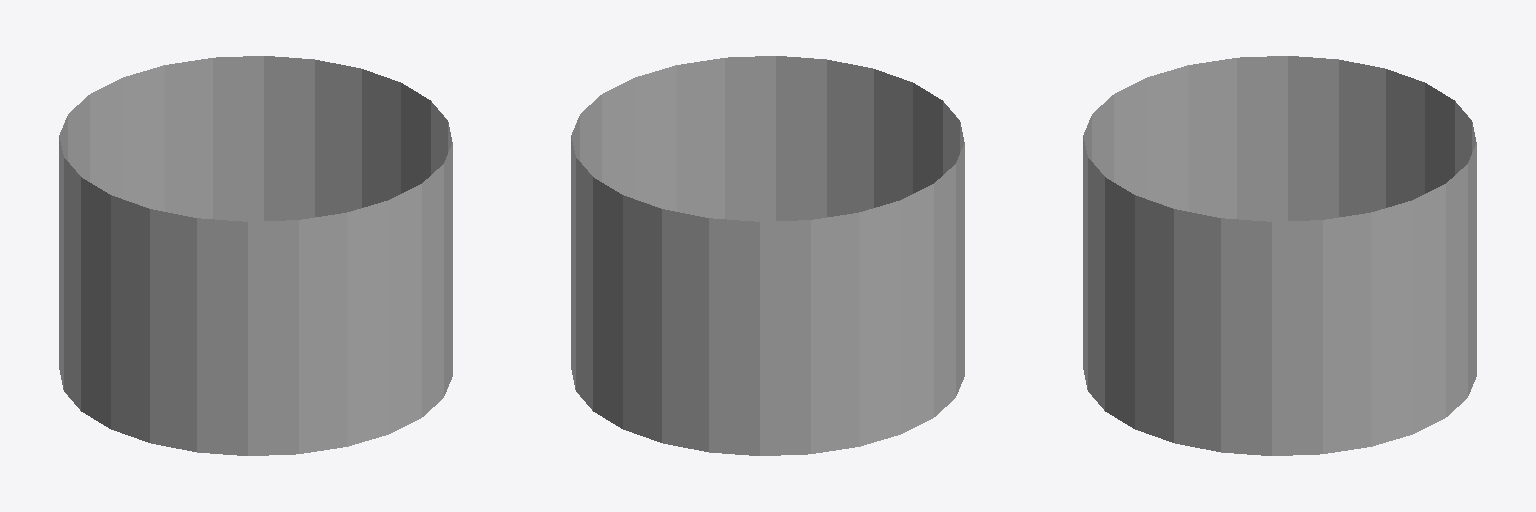
The model's file is original-41.obj.
3 views of the same model, side by side, from view 1: azimuth 30°, elevation 25°; view 2: azimuth 150°, elevation 25°; view 3: azimuth 270°, elevation 25° (orthographic).
Visible parts, largest first — view 1: #ID1027; view 2: #ID1027; view 3: #ID1027.
Boxes of the visible parts, <box> form: #ID1027: <box>59,56,452,455</box>; #ID1027: <box>571,56,964,455</box>; #ID1027: <box>1083,56,1476,455</box>.
Size of the model in its own units: 0.0548 by 0.036 by 0.0548.